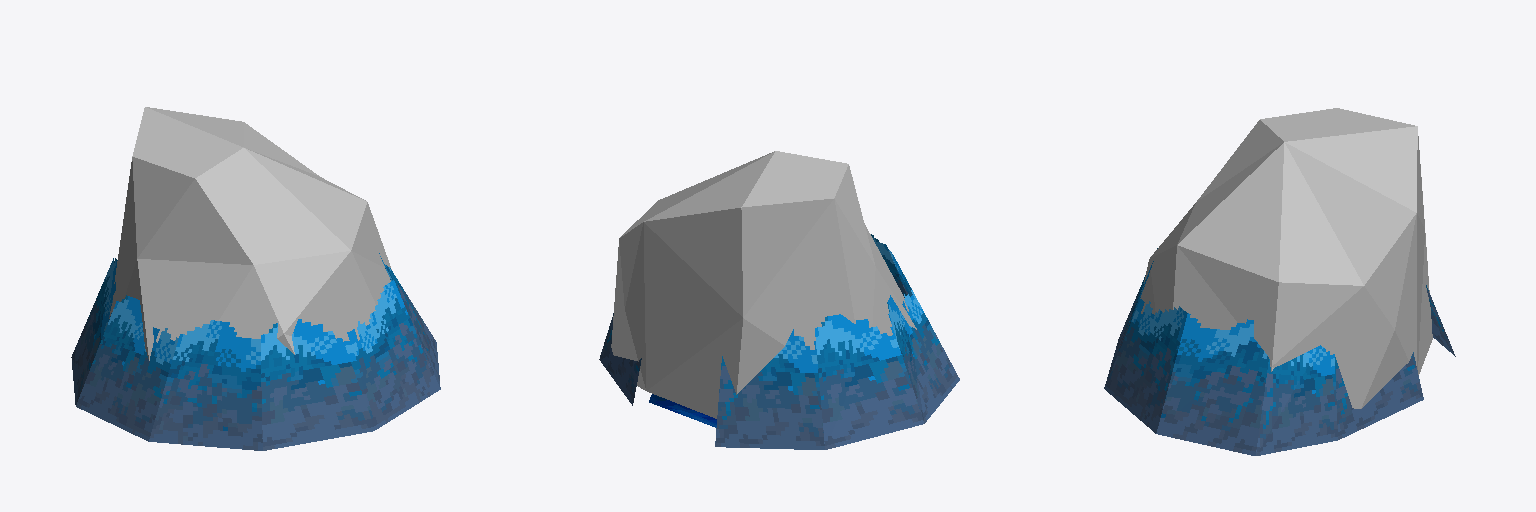
The picture shows the model from 3 angles: view 1: azimuth 30°, elevation 25°; view 2: azimuth 150°, elevation 25°; view 3: azimuth 270°, elevation 25°; orthographic projection.
Parts seen in each view (by area): view 1: polygon0, polygon4; view 2: polygon0, polygon4, polygon2; view 3: polygon0, polygon4.
Boxes of the visible parts, x1,y1,x2,y2 form: polygon0: [109, 107, 391, 360]; polygon4: [71, 253, 440, 450]; polygon0: [611, 151, 916, 418]; polygon4: [599, 234, 959, 449]; polygon2: [649, 394, 716, 427]; polygon0: [1140, 108, 1432, 408]; polygon4: [1104, 248, 1455, 455].
Size of the model in its own units: 6.54 by 4.41 by 5.92.
Materials: 5 (4 with a texture image).